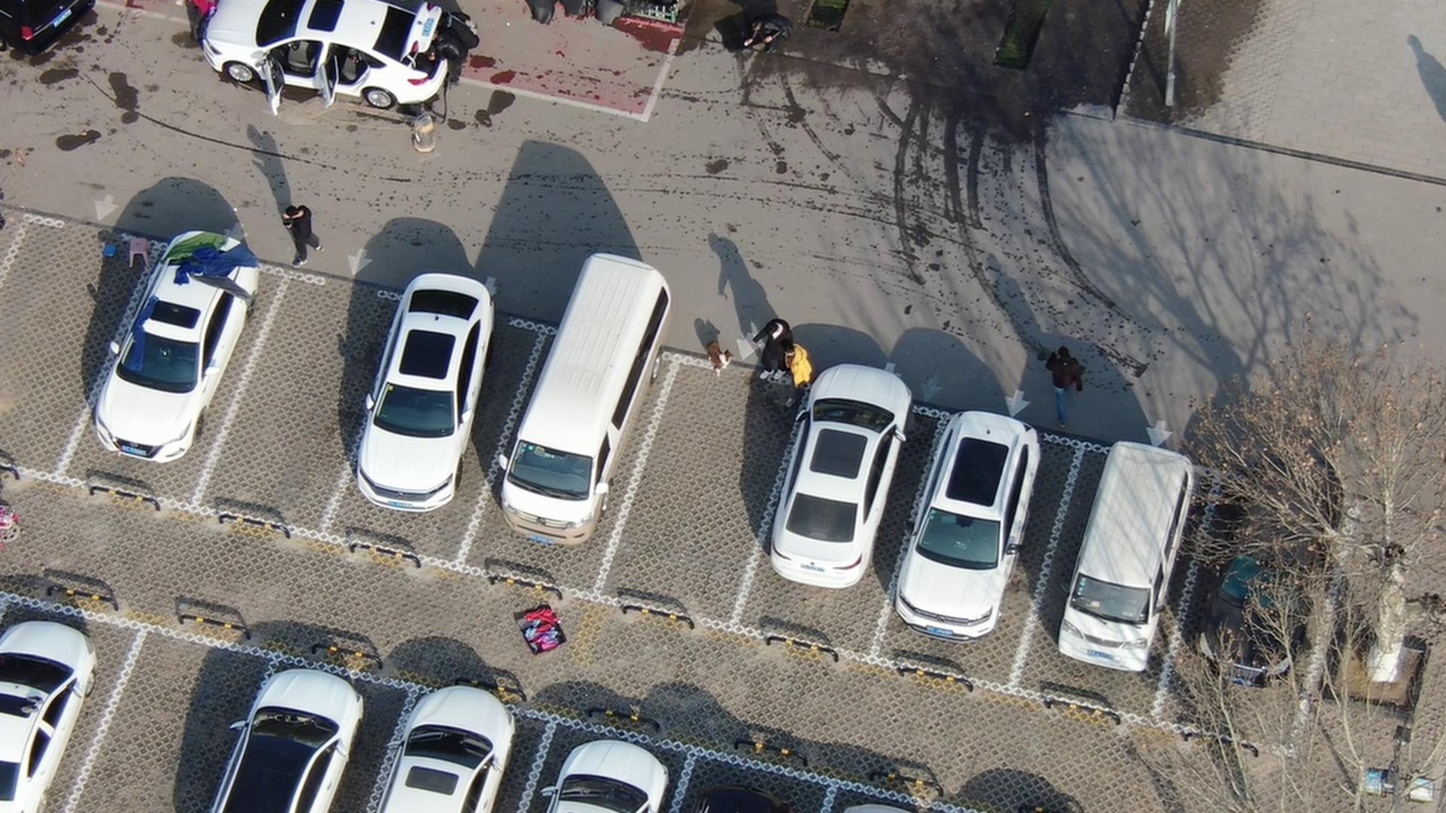class_2: (440, 1, 493, 93)
human: (1050, 336, 1090, 423), (282, 200, 322, 266), (783, 352, 820, 419), (758, 319, 798, 379), (753, 5, 806, 48), (1, 169, 22, 237)
